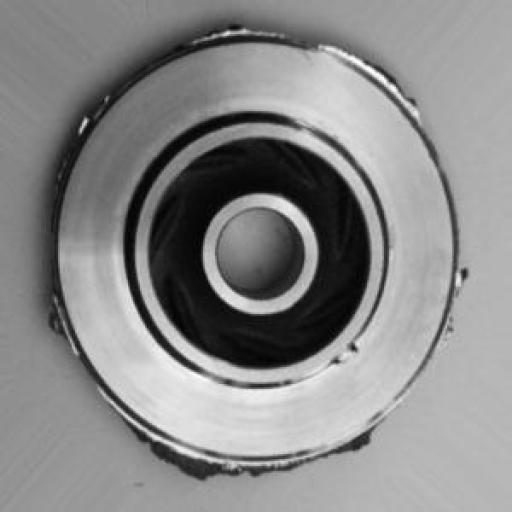defect: (24, 22, 481, 496)
